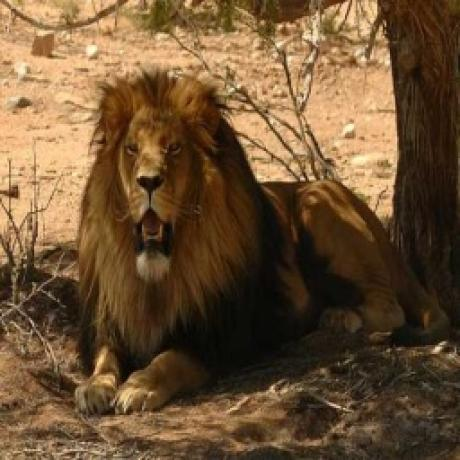Lion: (65, 57, 448, 421)
